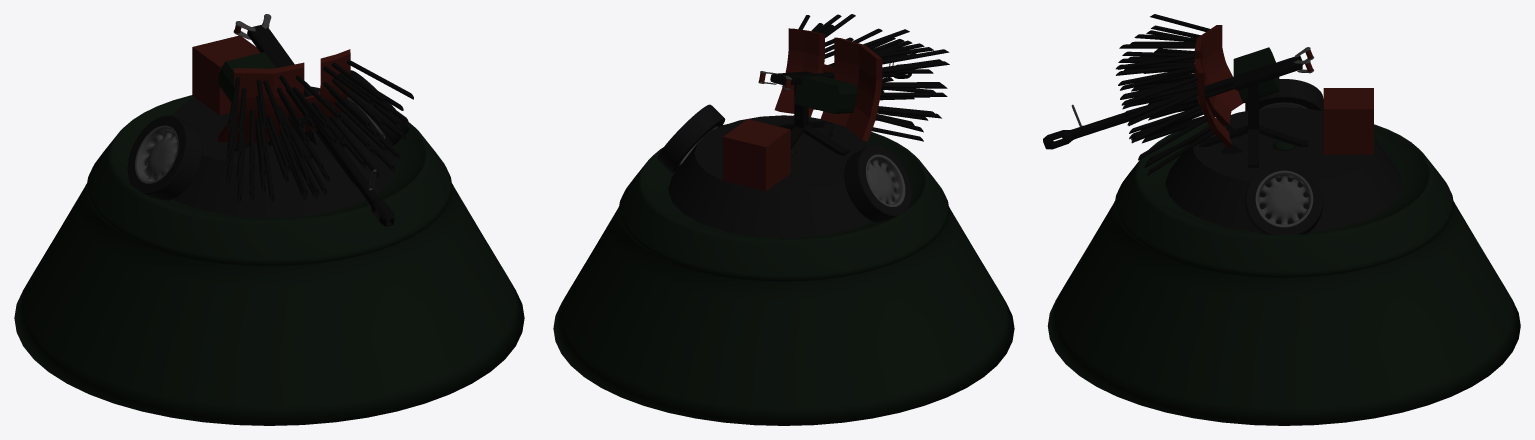
The model's file is Tower_1.FBX.
3 views of the same model, side by side, from view 1: azimuth 30°, elevation 25°; view 2: azimuth 150°, elevation 25°; view 3: azimuth 270°, elevation 25° (orthographic). The views are drawn at different scales.
Parts seen in each view (by area): view 1: Cylinder003, Gun, Box002, Body013, Body012; view 2: Cylinder003, Box002, Gun, Body013, Body012; view 3: Cylinder003, Box002, Gun, Body012, Body013.
Part boxes in pixels (x1,y1,x2,y2): Cylinder003: (14,95,524,425); Gun: (218,14,413,226); Box002: (156,35,397,218); Body013: (127,115,202,200); Body012: (347,70,409,145); Cylinder003: (553,124,1014,425); Box002: (668,84,886,238); Gun: (758,14,949,141); Body013: (844,145,911,222); Body012: (657,104,725,172); Cylinder003: (1047,118,1520,425); Box002: (1165,83,1402,232); Gun: (1043,14,1314,175); Body012: (1245,160,1323,234); Body013: (1245,79,1323,111).
Bounding box in the file's own units: 354 × 223 × 357.
